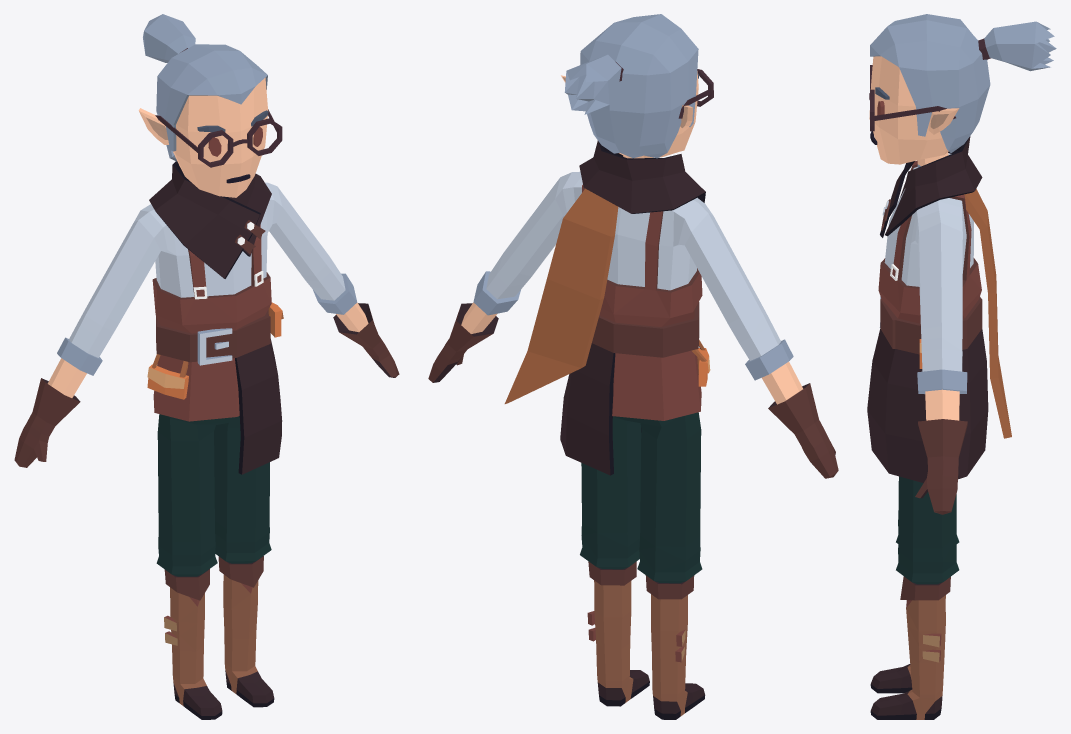
3 renders of one model, left to right at view 1: azimuth 30°, elevation 25°; view 2: azimuth 150°, elevation 25°; view 3: azimuth 270°, elevation 25°, orthographic. The views are drawn at different scales.
Parts seen in each view (by area): view 1: legs_1, torso_2, belt_5, hair_7, Cube.001_4, head_0, glasses_8, face_3; view 2: torso_2, legs_1, belt_5, hair_7, CAPE_6, Cube.001_4, head_0; view 3: torso_2, hair_7, legs_1, belt_5, head_0, Cube.001_4, CAPE_6, glasses_8.
Part boxes in pixels (box(x1,y1,x2,y2)): legs_1: box(156, 414, 274, 719); torso_2: box(14, 182, 399, 467); belt_5: box(147, 302, 283, 474); hair_7: box(143, 14, 267, 161); Cube.001_4: box(149, 161, 271, 278); head_0: box(138, 77, 267, 197); glasses_8: box(155, 109, 282, 167); face_3: box(197, 110, 268, 183); torso_2: box(428, 156, 838, 478); legs_1: box(580, 412, 705, 719); belt_5: box(560, 302, 710, 475); hair_7: box(564, 14, 698, 158); CAPE_6: box(504, 188, 618, 403); Cube.001_4: box(579, 140, 705, 213); head_0: box(561, 71, 698, 158); torso_2: box(878, 152, 981, 514); hair_7: box(870, 14, 1056, 153); legs_1: box(870, 476, 959, 719); belt_5: box(867, 296, 988, 482); head_0: box(869, 56, 959, 164); Cube.001_4: box(880, 136, 982, 237); CAPE_6: box(964, 189, 1011, 438); glasses_8: box(869, 65, 955, 131).
Size of the model in its own units: 2.77 by 4.47 by 1.13.
Materials: 1 (1 with a texture image).
